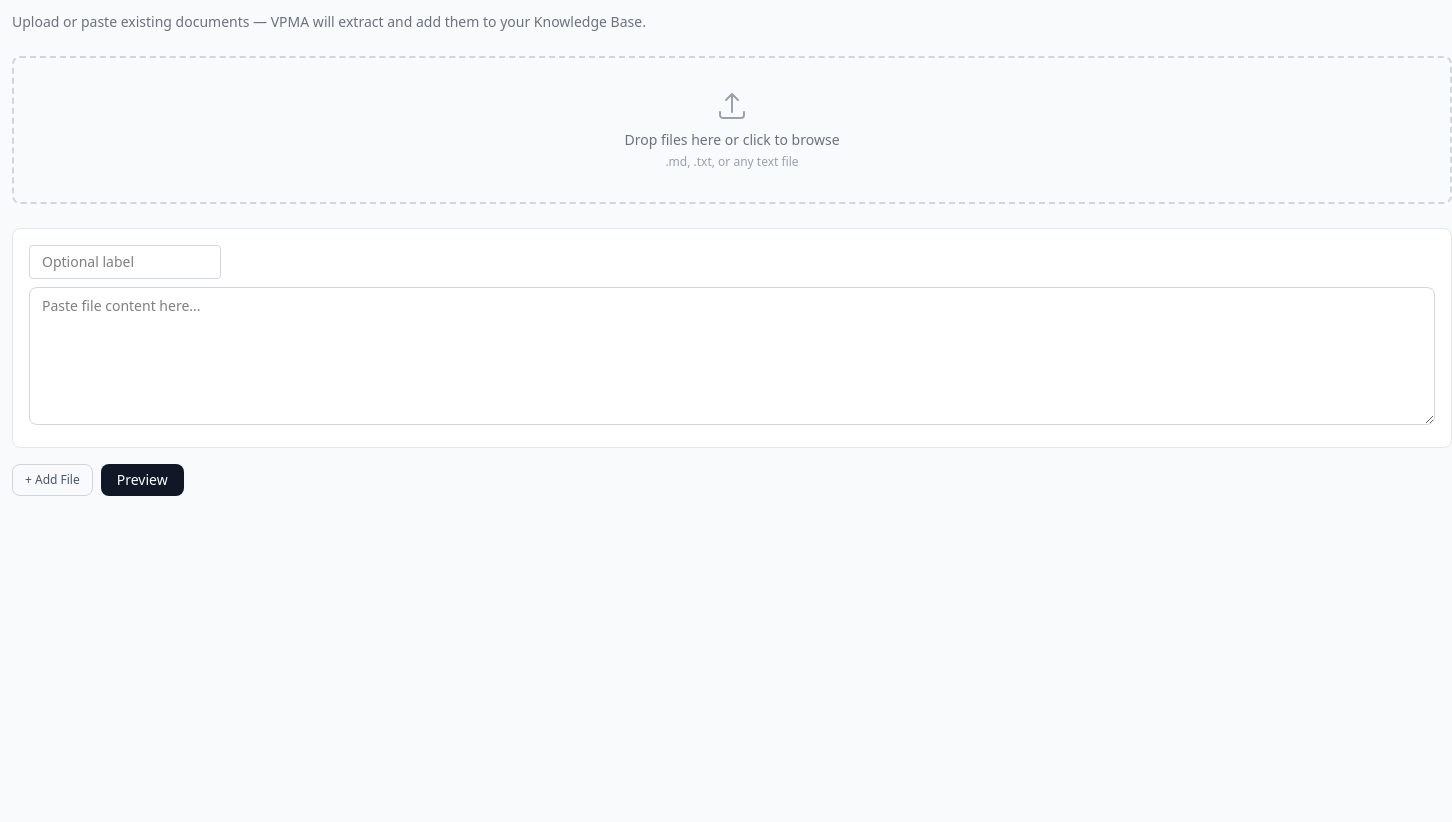
Scenario: Intake › shows error when previewing with empty content
Click the button "Preview" at [142, 480], box x1=101 y1=464 x2=184 y2=496
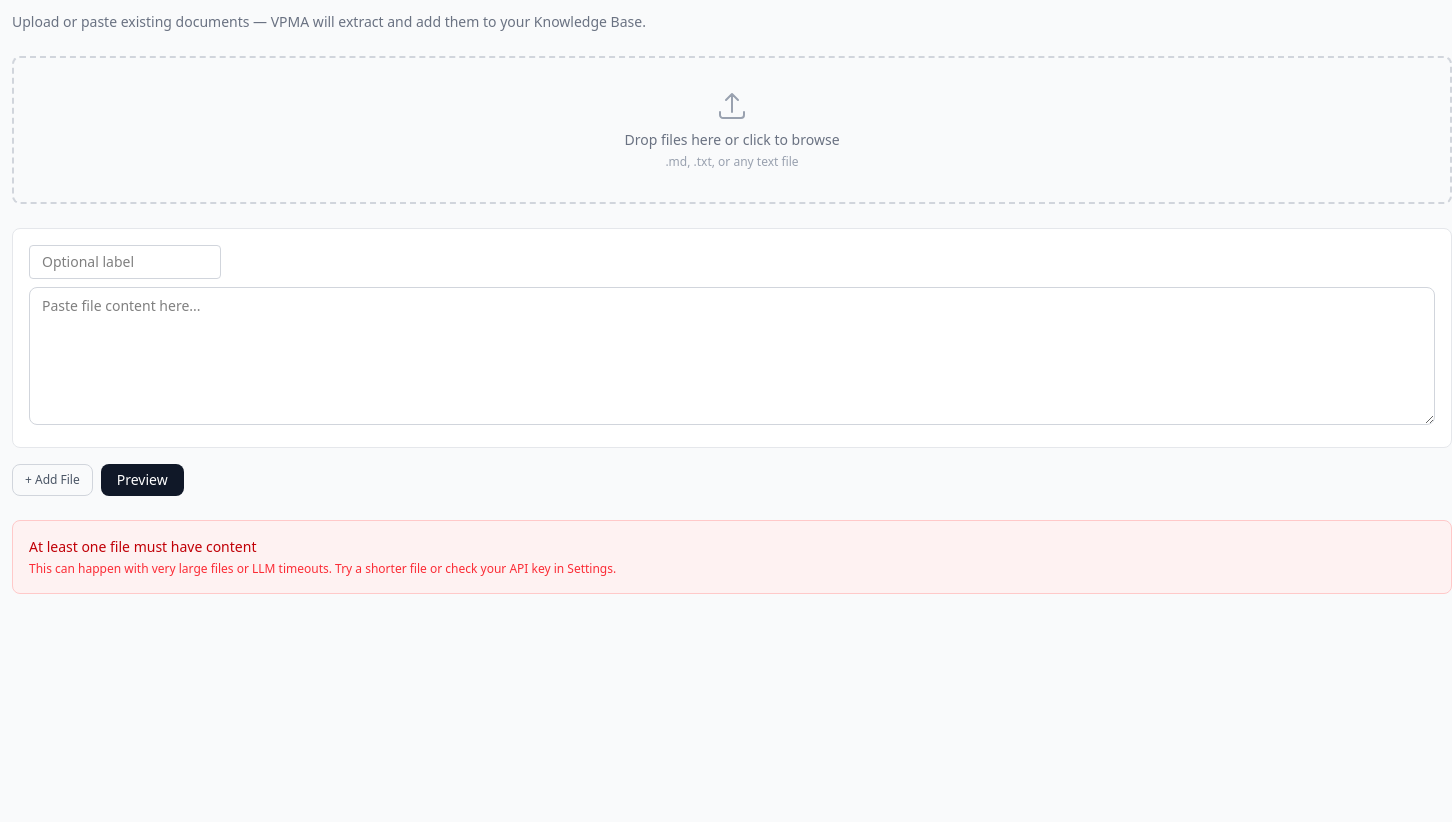
Now the text "At least one file must have content" is shown, box x1=29 y1=537 x2=256 y2=556
